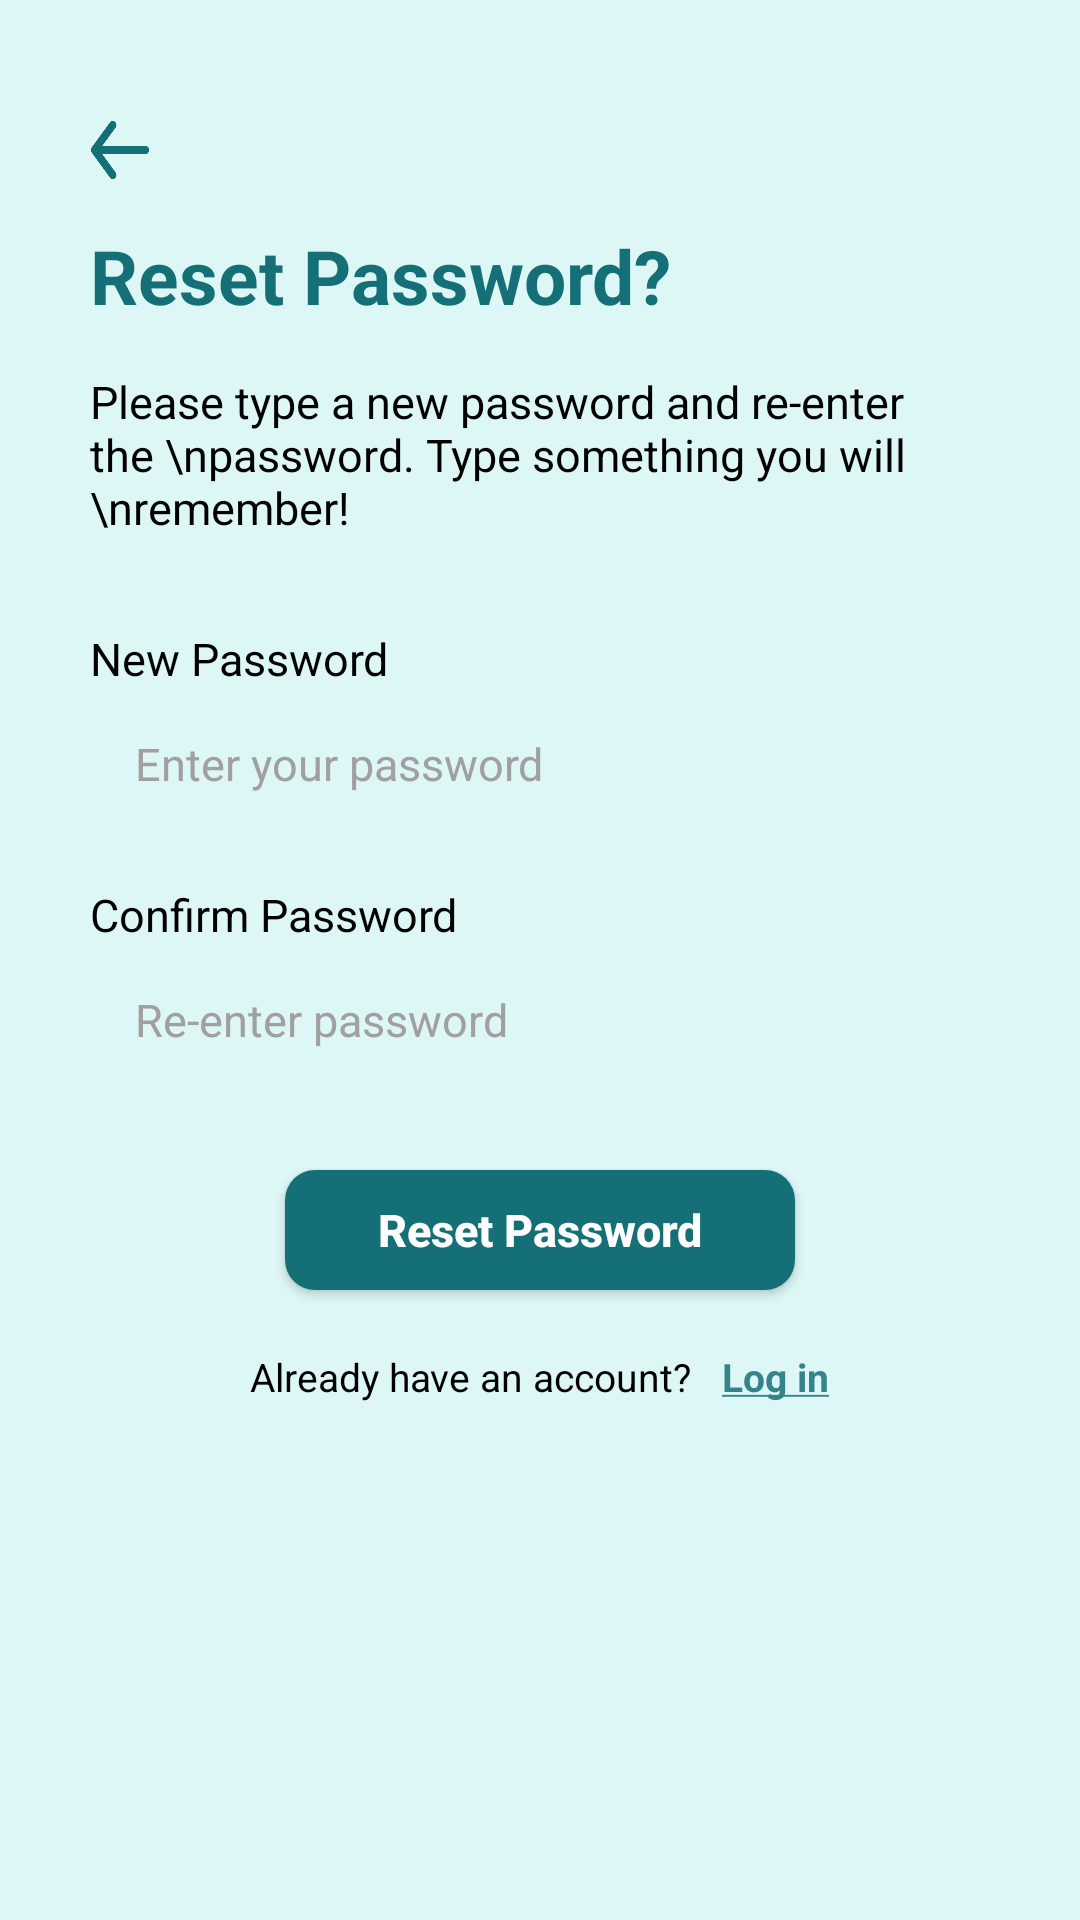

Named icons in this screenshot (1080px×1920px) and their centers, point (x, y):
back arrow: point (120, 150)
